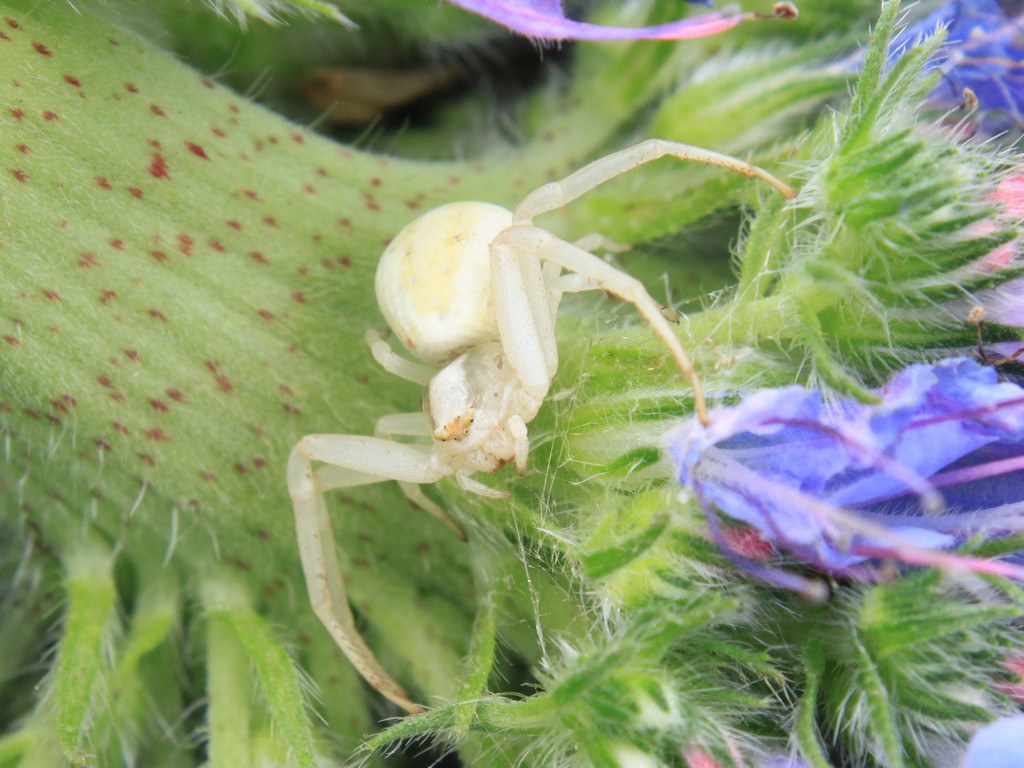insect: (0, 0, 1023, 767), (284, 137, 797, 723), (287, 136, 789, 717)
